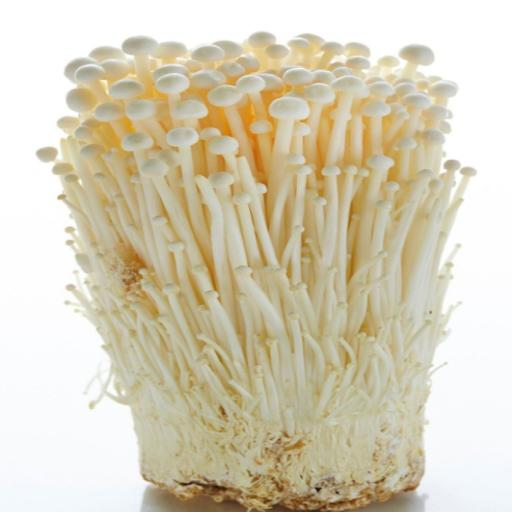Enoki Mushroom: (0, 2, 496, 512)
